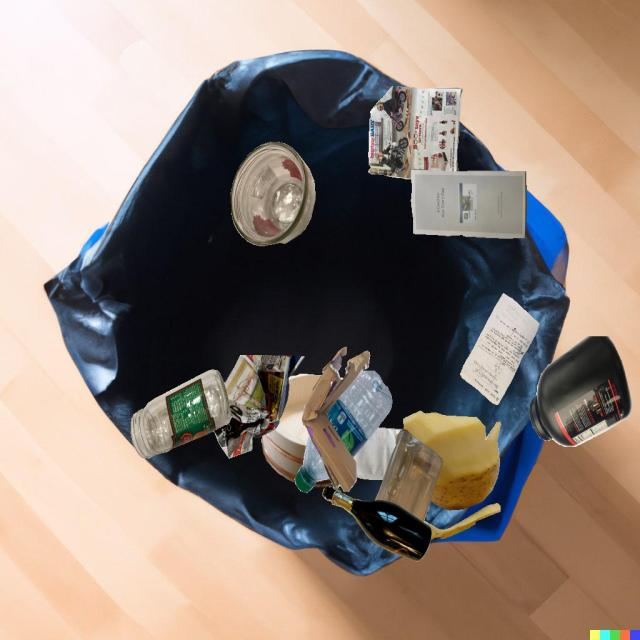cardboard: (302, 347, 370, 492)
combustible waste: (302, 379, 343, 479), (261, 374, 322, 441), (261, 441, 303, 483), (313, 478, 333, 488)
glass: (131, 369, 231, 458), (231, 142, 315, 246), (322, 486, 432, 562)
paper: (213, 355, 305, 458), (460, 293, 539, 405), (368, 86, 462, 179), (411, 169, 527, 238), (353, 427, 402, 480)
plastic: (529, 336, 632, 447), (375, 429, 443, 522), (326, 371, 392, 458), (295, 435, 329, 493)
